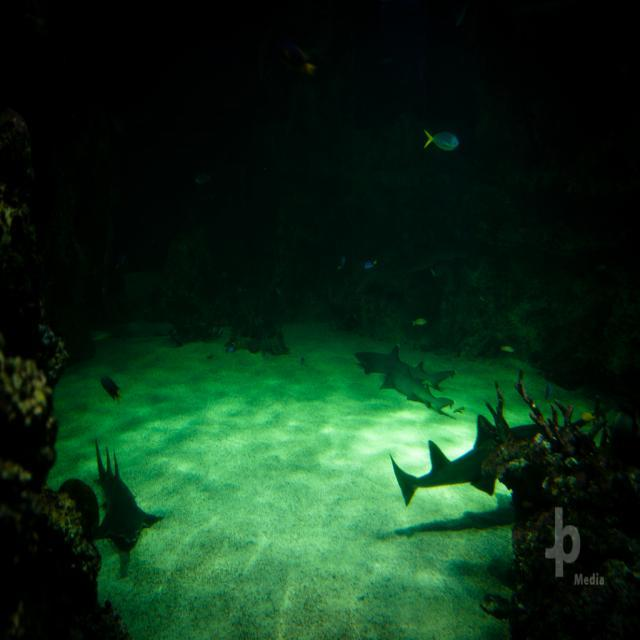Shark: (389, 414, 542, 496), (98, 438, 164, 576), (94, 440, 160, 552)
